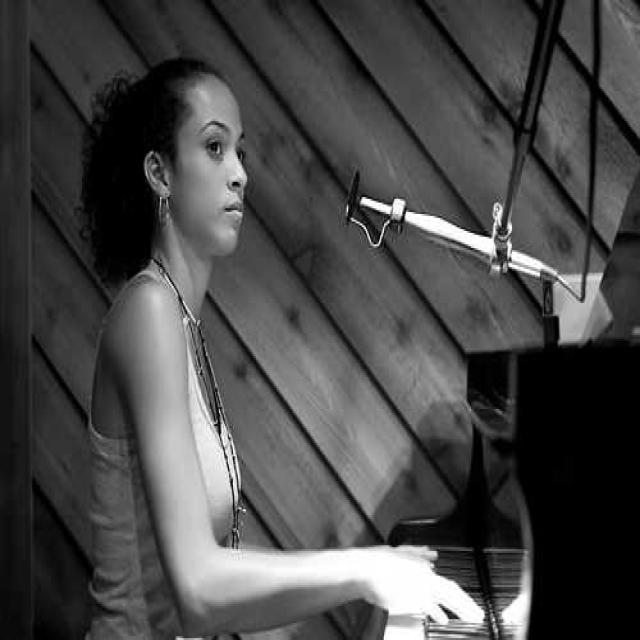microphone: (325, 164, 417, 252)
